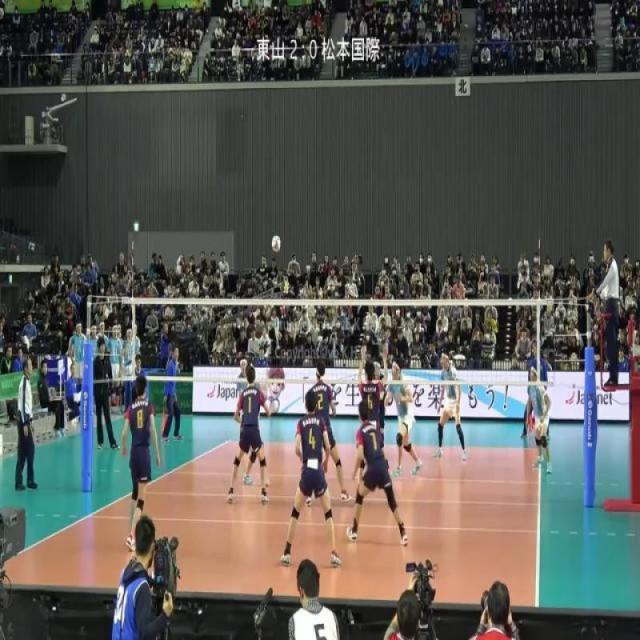volleyball: (271, 234, 281, 253)
